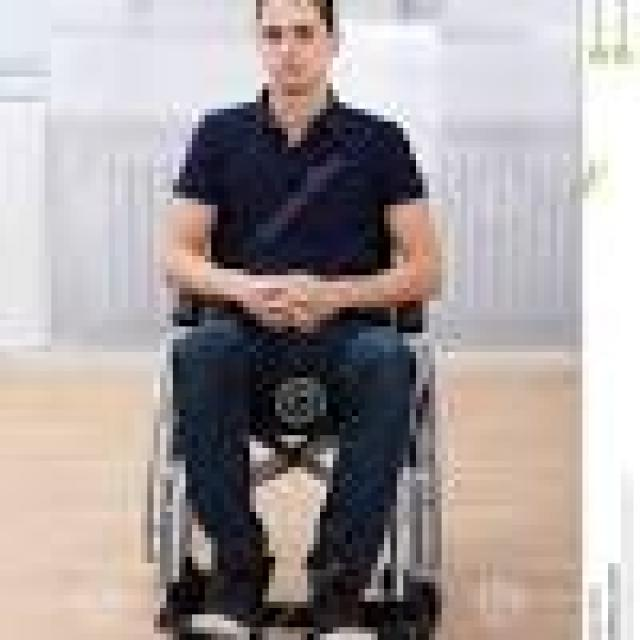wheelchairs: (122, 211, 467, 634)
